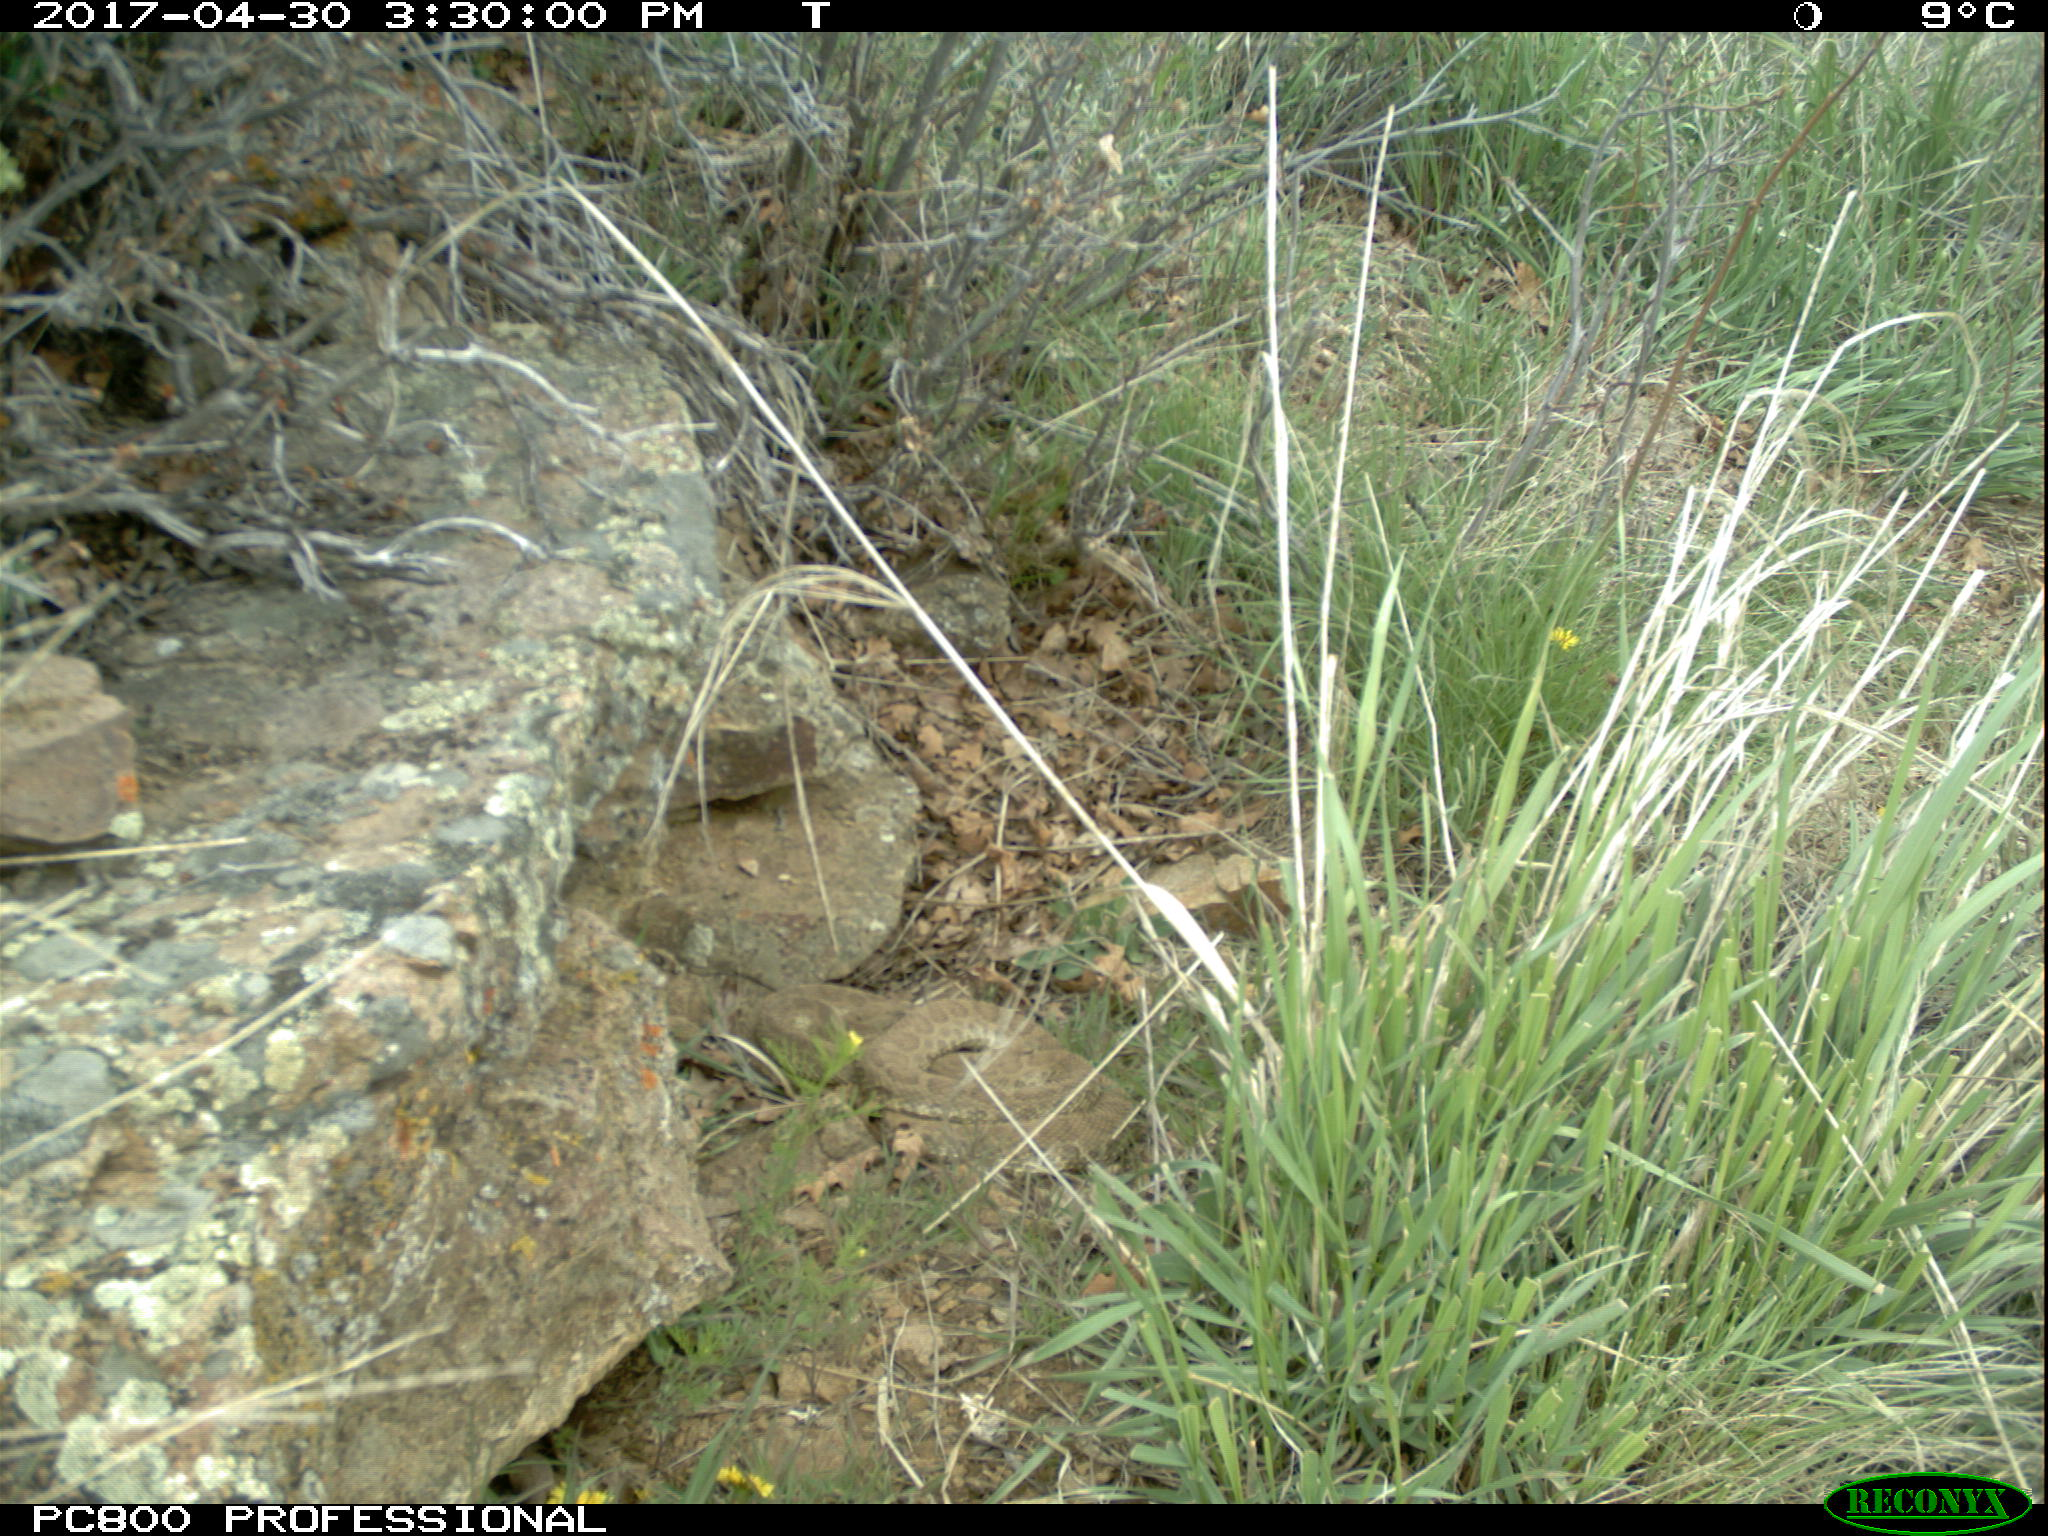snake: (748, 984, 1155, 1183)
